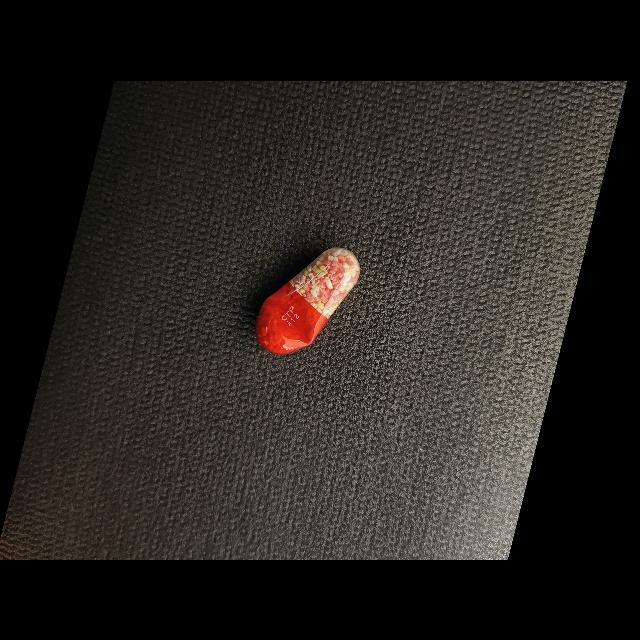Defective Capsule: (256, 247, 360, 354)
